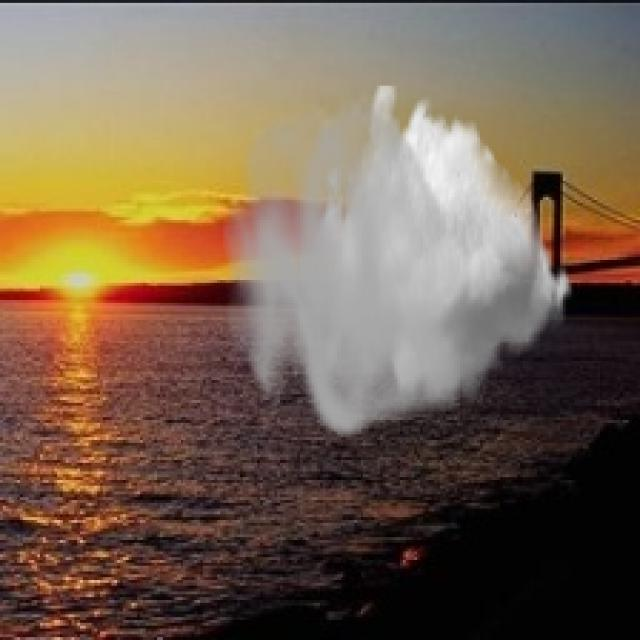Smoke: (222, 86, 574, 443)
